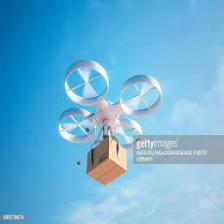drone: (50, 56, 165, 153)
